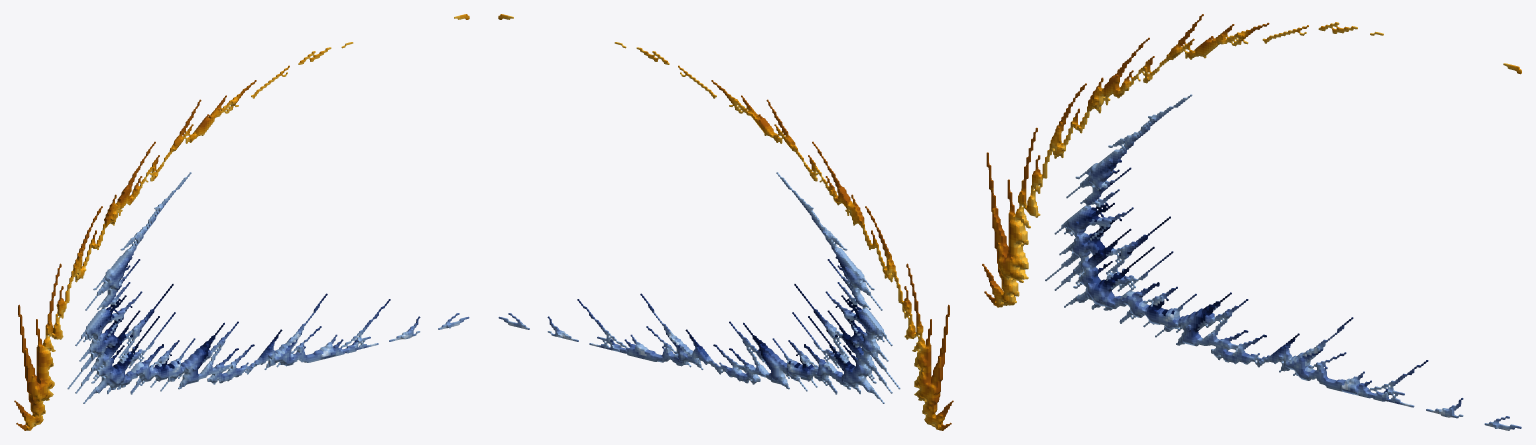
The model's file is Fight_018_3_11.obj.
3 renders of one model, left to right at view 1: azimuth 30°, elevation 25°; view 2: azimuth 150°, elevation 25°; view 3: azimuth 330°, elevation 25°, orthographic. The views are drawn at different scales.
Size of the model in its own units: 23.06 by 14.98 by 0.6.
Materials: 1 (1 with a texture image).
